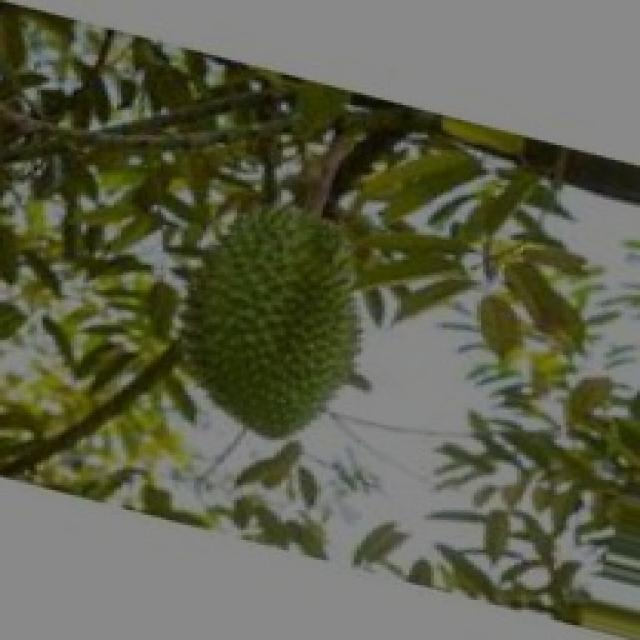fruit: (148, 162, 403, 462)
